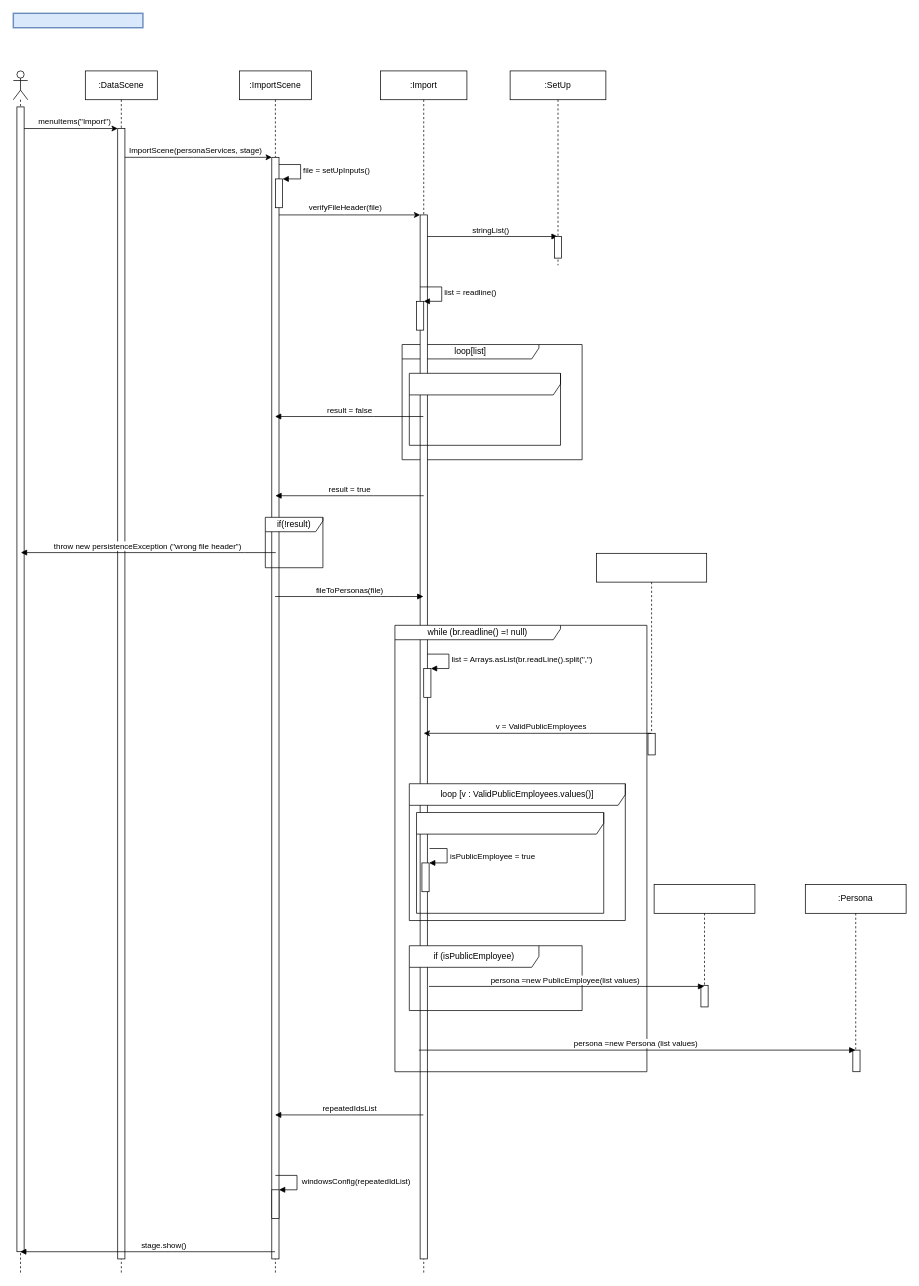
This 919x1286 diagram has some shape labels left out. The centre of each missing label's shape, as x and y in pixels:
:PublicEmployee: the point at 704,945
:ValidPublicEmployees: the point at 651,654
Br = BufferedReader: the point at 77,20
if (!(stringList().contains.list[i])): the point at 485,409
if(list [id] = v): the point at 510,862
